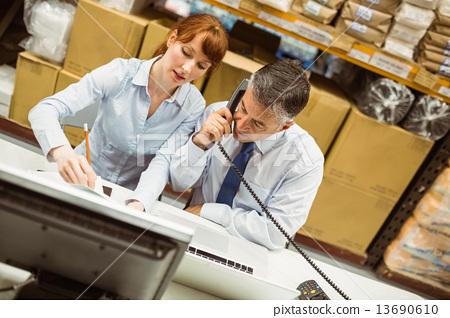phone: (223, 77, 243, 151)
talk: (201, 75, 270, 169)
